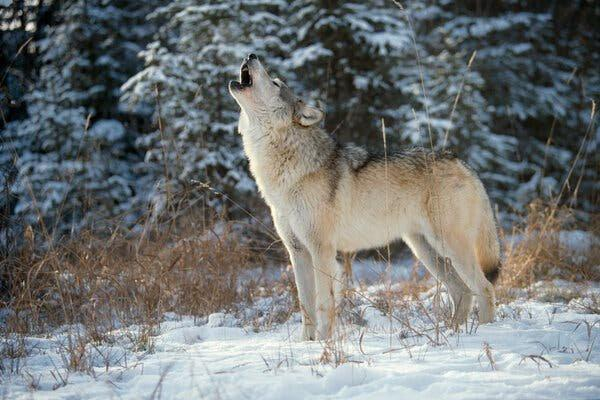Wolf: (228, 53, 499, 342)
